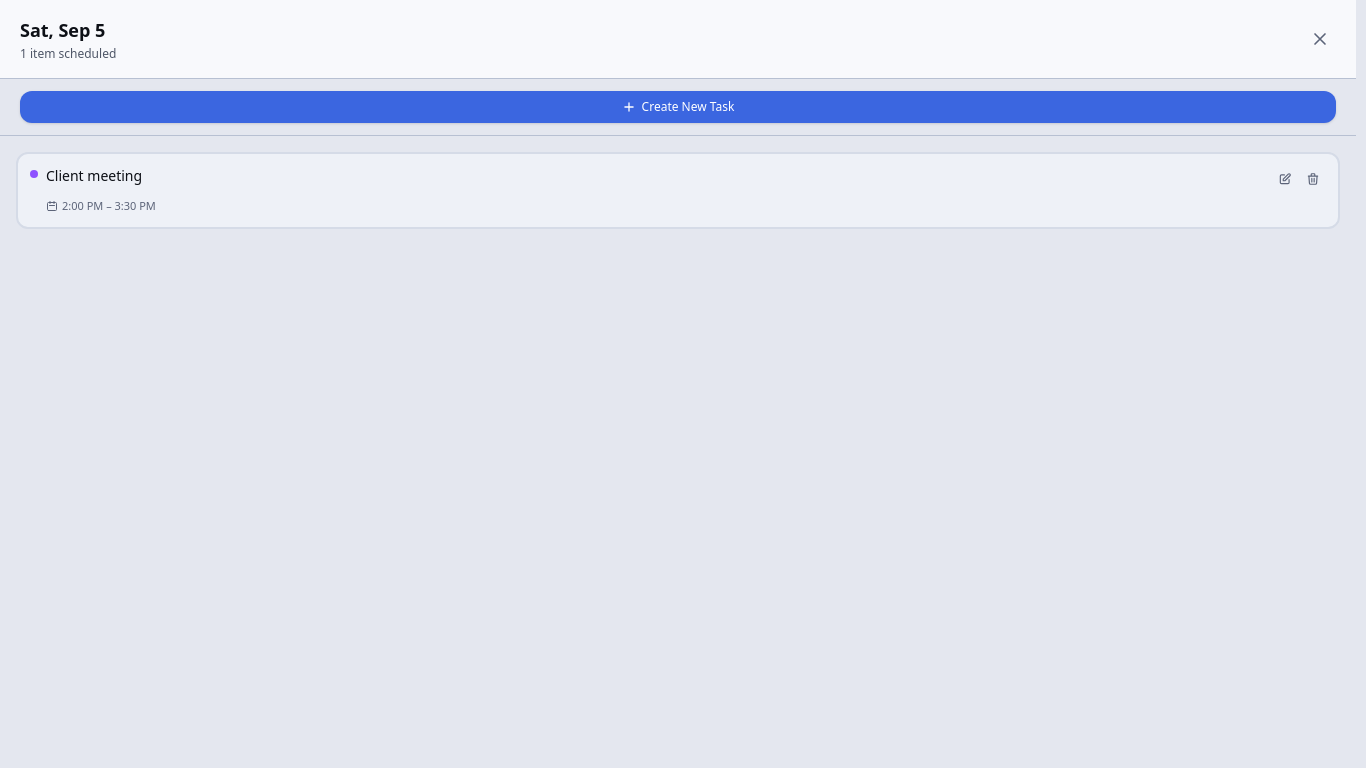
event popup: when › shows the start and end of a timed event on one day
Click the heading "Client meeting": (94, 176) [46, 166, 142, 186]
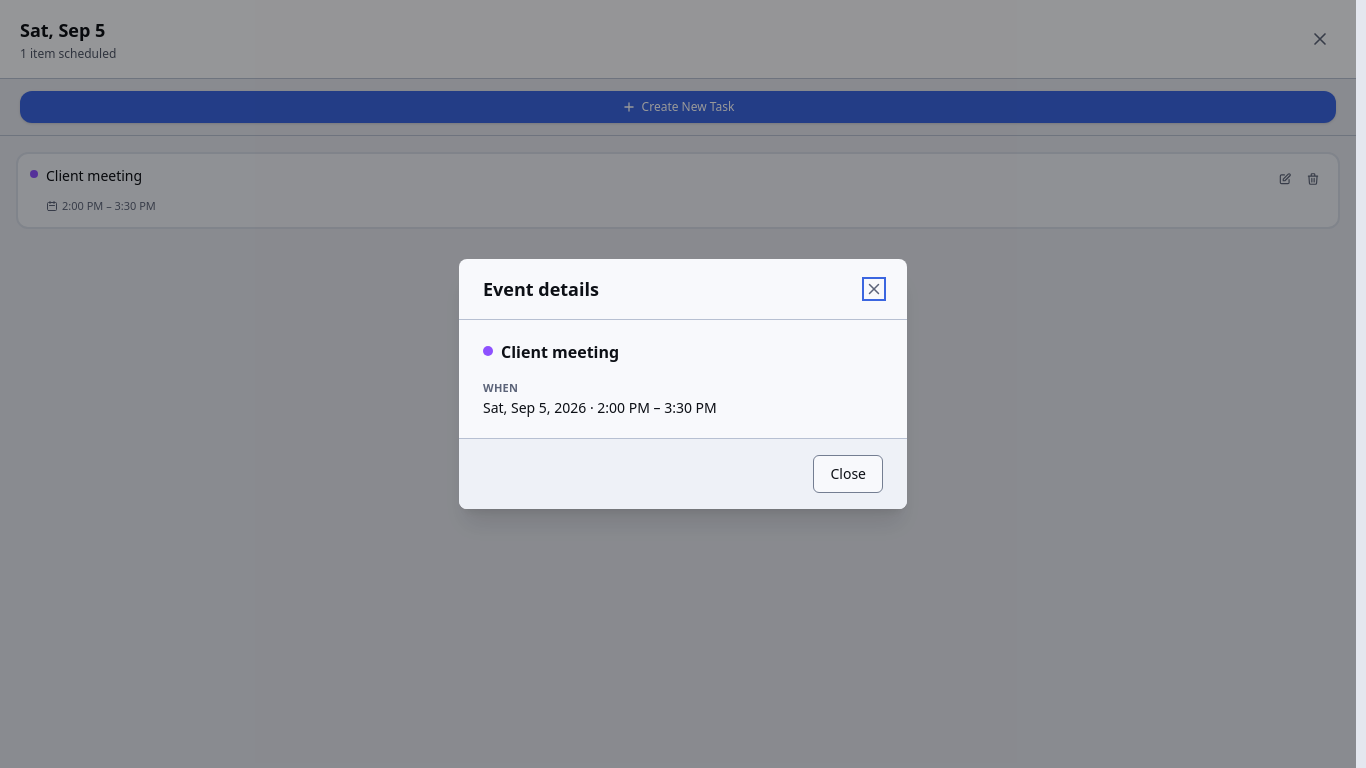
Expected: the text "Sat, Sep 5, 2026 · 2:00 PM – 3:30 PM" is shown, [483, 398, 717, 417]
